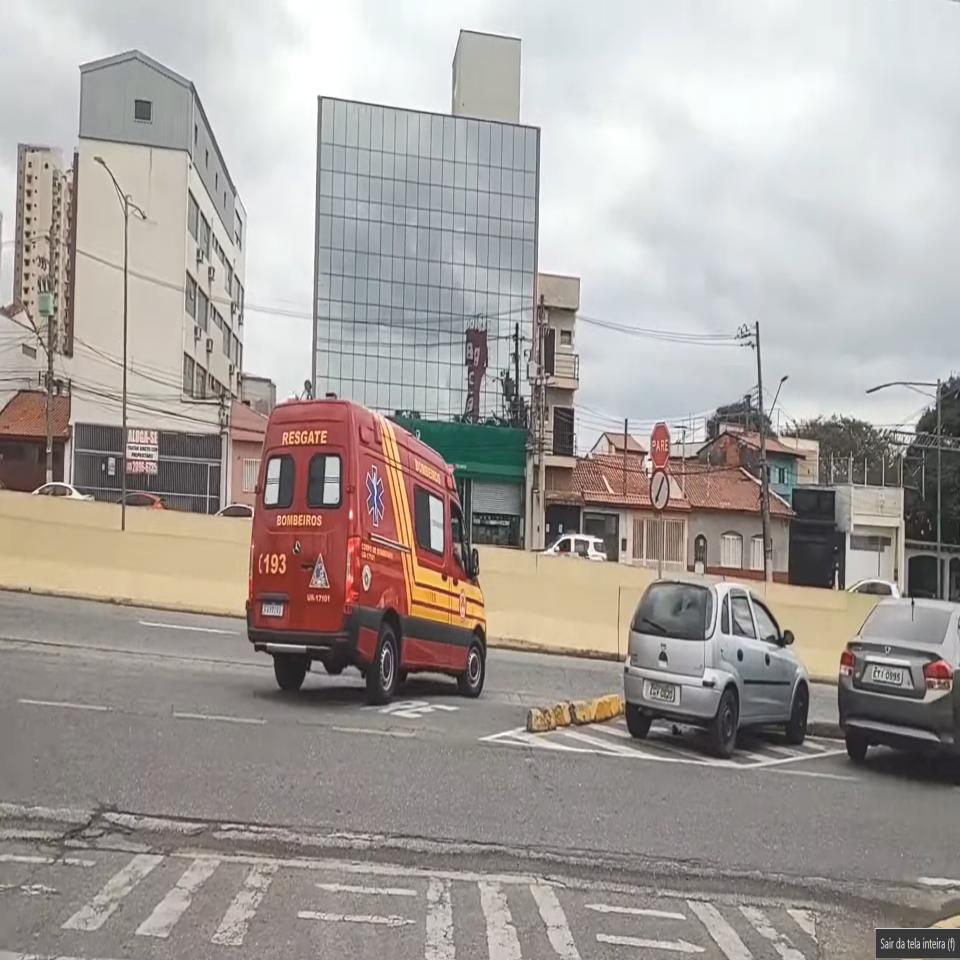bombeiro: (246, 390, 488, 699)
